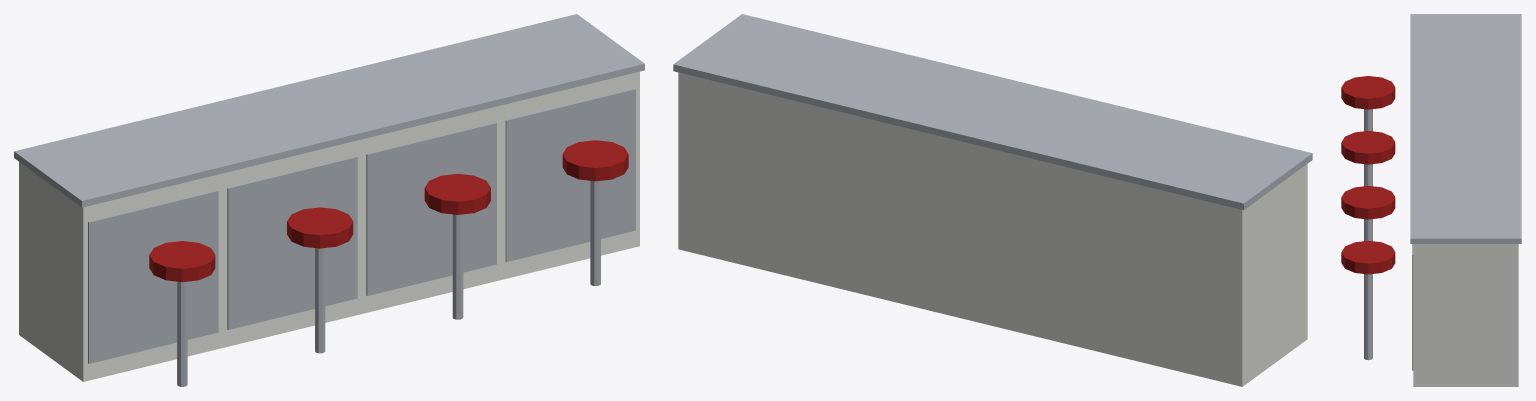
The model's file is lunch counter.glb.
3 views of the same model, side by side, from view 1: azimuth 30°, elevation 25°; view 2: azimuth 150°, elevation 25°; view 3: azimuth 270°, elevation 25° (orthographic). The views are drawn at different scales.
Visible parts, largest first — view 1: lunch counter; view 2: lunch counter; view 3: lunch counter.
Part boxes in pixels (x1=…): lunch counter: x1=14, y1=14, x2=644, y2=386; lunch counter: x1=673, y1=14, x2=1312, y2=386; lunch counter: x1=1341, y1=14, x2=1521, y2=386.
Size of the model in its own units: 3.54 by 1.1 by 1.2.
